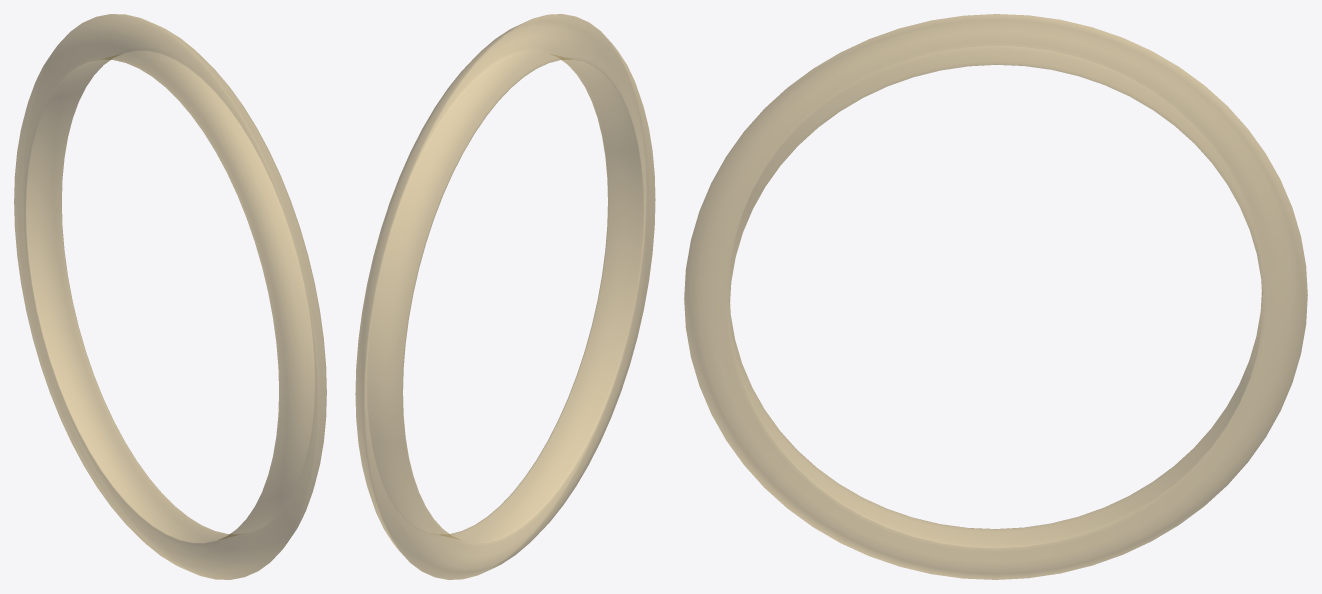
The picture shows the model from 3 angles, left to right: view 1: azimuth 30°, elevation 25°; view 2: azimuth 150°, elevation 25°; view 3: azimuth 270°, elevation 25°; orthographic projection. The views are drawn at different scales.
Visible parts, largest first — view 1: ring; view 2: ring; view 3: ring.
Part boxes in pixels (bbox=[...]): ring: bbox=[14, 14, 326, 579]; ring: bbox=[355, 14, 655, 579]; ring: bbox=[684, 14, 1307, 579].
Size of the model in its own units: 0.1872 by 2.21 by 2.21.
